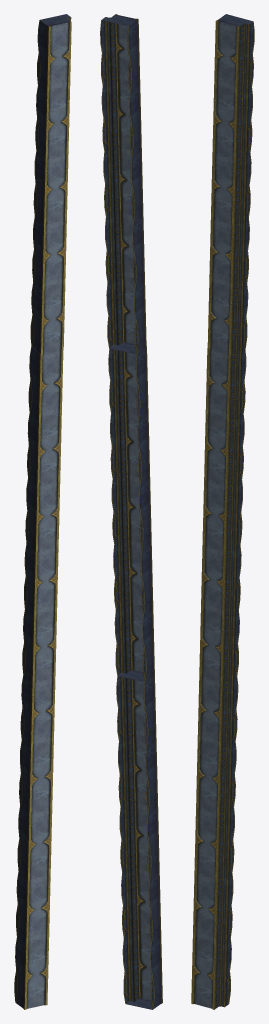
The model's file is juqing_yewai_609_border_03a59.obj.
3 renders of one model, left to right at view 1: azimuth 30°, elevation 25°; view 2: azimuth 150°, elevation 25°; view 3: azimuth 330°, elevation 25°, orthographic.
Parts seen in each view (by area): view 1: juqing_yewai_609_border_03a59; view 2: juqing_yewai_609_border_03a59; view 3: juqing_yewai_609_border_03a59.
Boxes of the visible parts, left/top/right/bottom form: juqing_yewai_609_border_03a59: left=14, top=14, right=71, bottom=1009; juqing_yewai_609_border_03a59: left=100, top=14, right=162, bottom=1009; juqing_yewai_609_border_03a59: left=191, top=14, right=254, bottom=1009.
Size of the model in its own units: 165 by 2976 by 61.58.
1 material, 1 textured.
